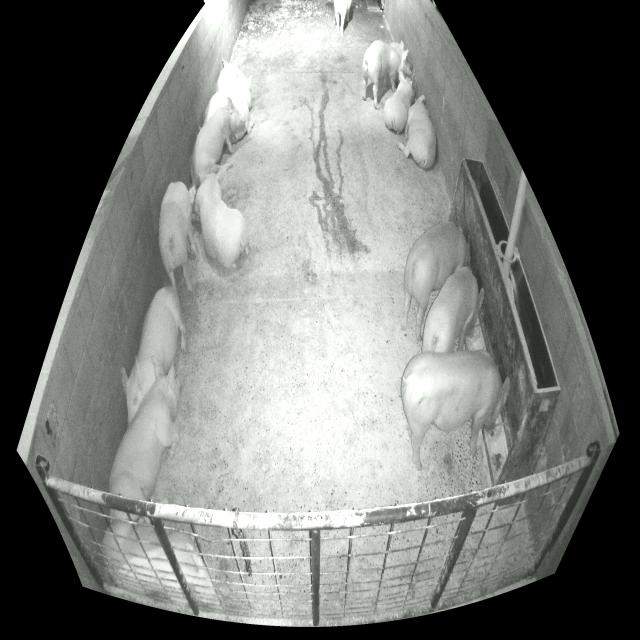pig: (401, 350, 510, 470), (108, 356, 182, 501), (103, 519, 215, 609), (121, 286, 186, 425), (402, 223, 466, 341), (194, 170, 249, 269), (422, 267, 484, 352), (190, 97, 245, 185), (159, 182, 197, 290), (363, 40, 408, 109), (216, 58, 252, 144), (397, 95, 436, 169), (384, 71, 414, 133), (202, 92, 227, 126), (334, 1, 352, 37)
